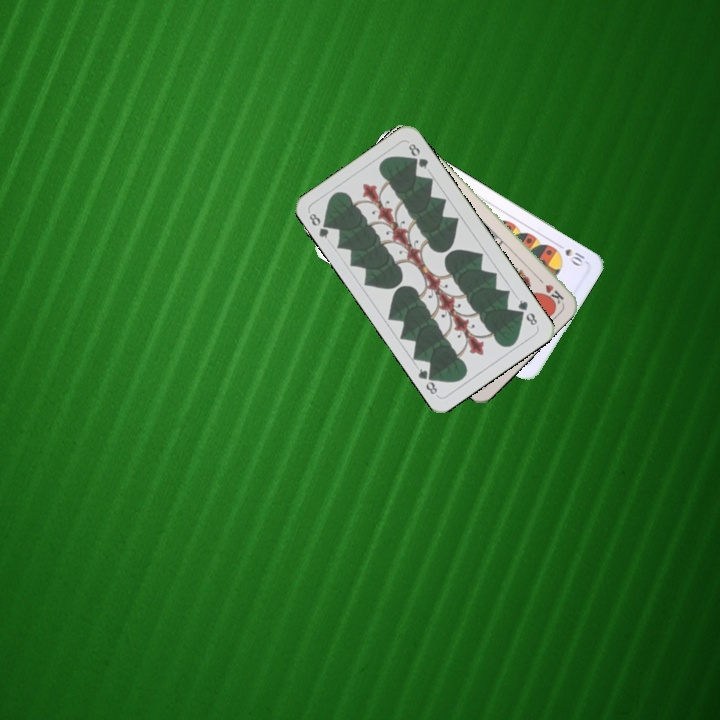G8: (305, 209, 334, 241), (513, 295, 540, 328)
HK: (533, 273, 566, 307)
S10: (552, 239, 587, 269)
